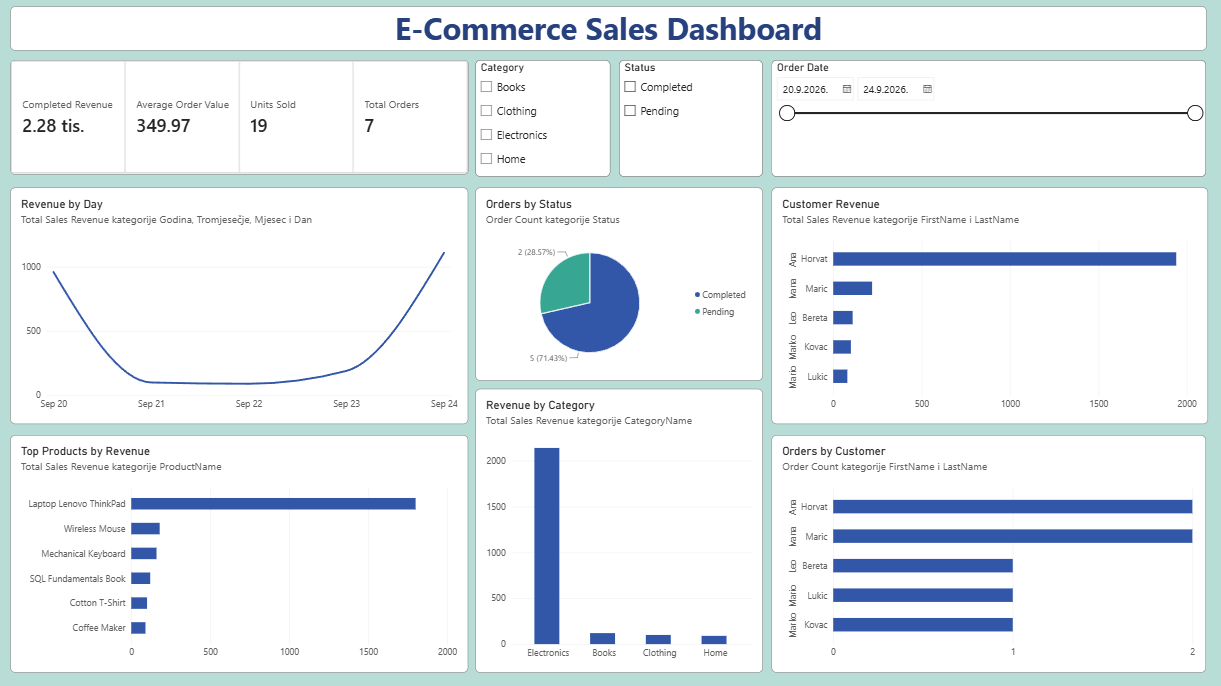

The page's visual inventory and layout, read from the dashboard file:
{"tool":"powerbi","page":{"name":"Stranica 1","canvas":[1920,1080],"ordinal":0},"visuals":[{"type":"cardVisual","fields":{"Data":["OrderItems.Completed Revenue","Categories.Average Order Value","Categories.Units Sold","Categories.Total Orders"]},"box":[16.9,94.9,719,179.7],"z":0},{"type":"lineChart","title":"Revenue by Day","fields":{"Category":["Orders.OrderDate.Varijacija.Hijerarhija datuma.Godina","Orders.OrderDate.Varijacija.Hijerarhija datuma.Tromjesečje","Orders.OrderDate.Varijacija.Hijerarhija datuma.Mjesec","Orders.OrderDate.Varijacija.Hijerarhija datuma.Dan"],"Y":["Categories.Total Sales Revenue"]},"box":[16.9,294.9,718.6,371.2],"z":1},{"type":"columnChart","title":"Revenue by Category","fields":{"Category":["Categories.CategoryName"],"Y":["Categories.Total Sales Revenue"]},"box":[747.5,610.2,450.8,445.8],"z":2},{"type":"clusteredBarChart","title":"Top Products by Revenue","fields":{"Category":["Products.ProductName"],"Y":["Categories.Total Sales Revenue"]},"box":[16.9,683.1,718.6,372.9],"z":3},{"type":"pieChart","title":"Orders by Status","fields":{"Category":["Orders.Status"],"Y":["Orders.Order Count"]},"box":[747.5,294.9,450.8,303.4],"z":4},{"type":"slicer","fields":{"Values":["Orders.OrderDate"]},"box":[1211.9,94.9,681.4,183.1],"z":5},{"type":"slicer","fields":{"Values":["Orders.Status"]},"box":[972.9,94.9,225.4,183.1],"z":7},{"type":"barChart","title":"Customer Revenue","fields":{"Category":["Customers.FirstName","Customers.LastName"],"Y":["Categories.Total Sales Revenue"]},"box":[1211.9,294.9,684.7,371.2],"z":8},{"type":"barChart","title":"Orders by Customer","fields":{"Category":["Customers.FirstName","Customers.LastName"],"Y":["Orders.Order Count"]},"box":[1211.9,683.1,681.4,372.9],"z":9},{"type":"textbox","box":[17.9,8.9,1876.8,69.6],"z":10},{"type":"slicer","fields":{"Values":["Categories.CategoryName"]},"box":[747.5,94.9,211.9,183.1],"z":11}]}

Visuals, with their boxes in screenshot pixels (x1, y1, x2, y2), scaled from the page's 1920x1080 canvas onto the 1221x686 screenshot:
cardVisual - OrderItems.Completed Revenue x Categories.Average Order Value: select_region(11, 60, 468, 174)
"Revenue by Day" lineChart: select_region(11, 187, 468, 423)
"Revenue by Category" columnChart: select_region(475, 388, 762, 671)
"Top Products by Revenue" clusteredBarChart: select_region(11, 434, 468, 671)
"Orders by Status" pieChart: select_region(475, 187, 762, 380)
slicer - Orders.OrderDate: select_region(771, 60, 1204, 177)
slicer - Orders.Status: select_region(619, 60, 762, 177)
"Customer Revenue" barChart: select_region(771, 187, 1206, 423)
"Orders by Customer" barChart: select_region(771, 434, 1204, 671)
textbox: select_region(11, 6, 1205, 50)
slicer - Categories.CategoryName: select_region(475, 60, 610, 177)
